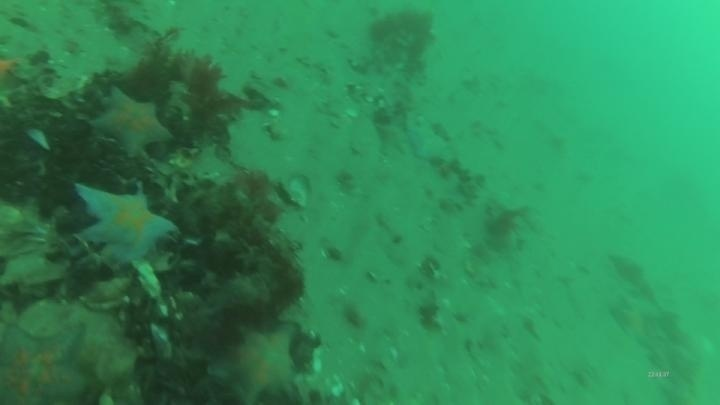starfish: (69, 178, 179, 265), (207, 320, 306, 405), (0, 319, 97, 405), (87, 85, 174, 162)
